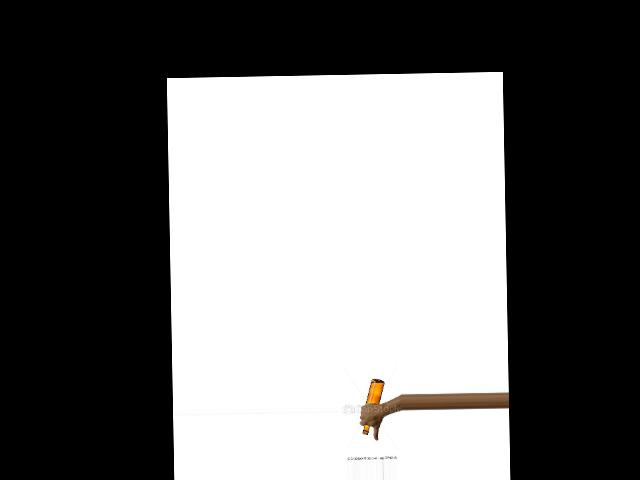beer: (362, 378, 385, 434)
